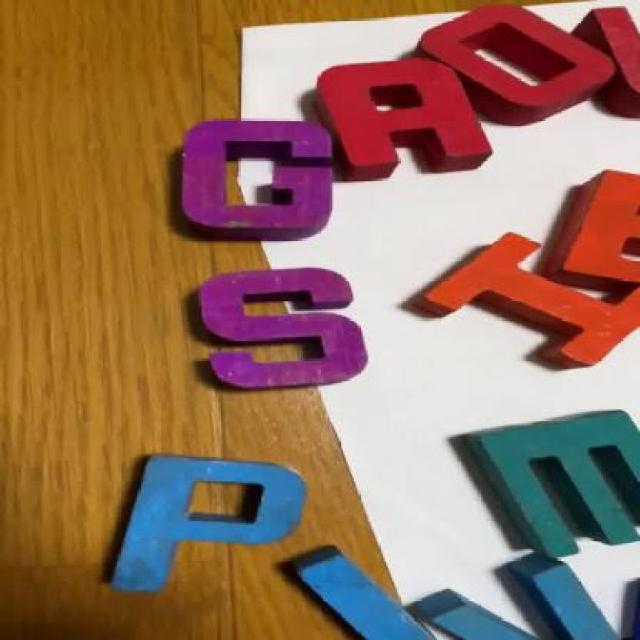A: (304, 56, 484, 176)
G: (182, 113, 340, 242)
I: (438, 232, 639, 365)
M: (453, 403, 639, 546)
O: (427, 5, 602, 116)
P: (105, 450, 308, 588)
S: (189, 267, 380, 398)
